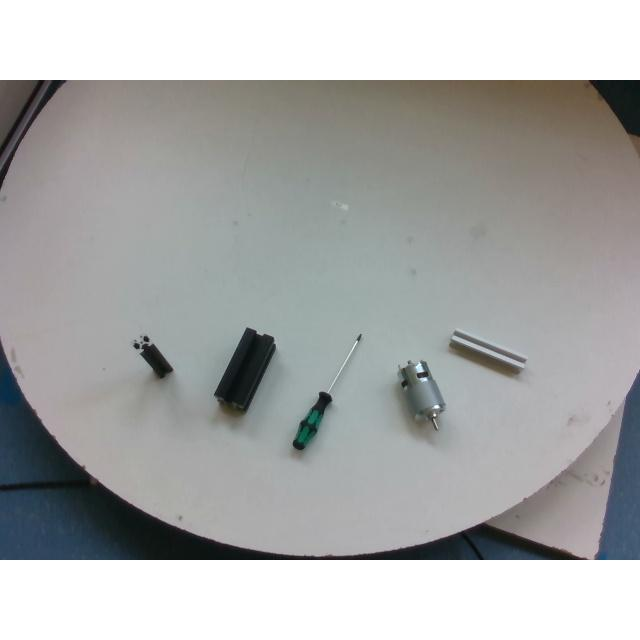F20_20_B: (132, 335, 172, 377)
F20_20_G: (450, 330, 526, 370)
Motor2: (398, 360, 446, 430)
S40_40_B: (213, 328, 274, 412)
Screwdriver: (294, 332, 362, 448)
